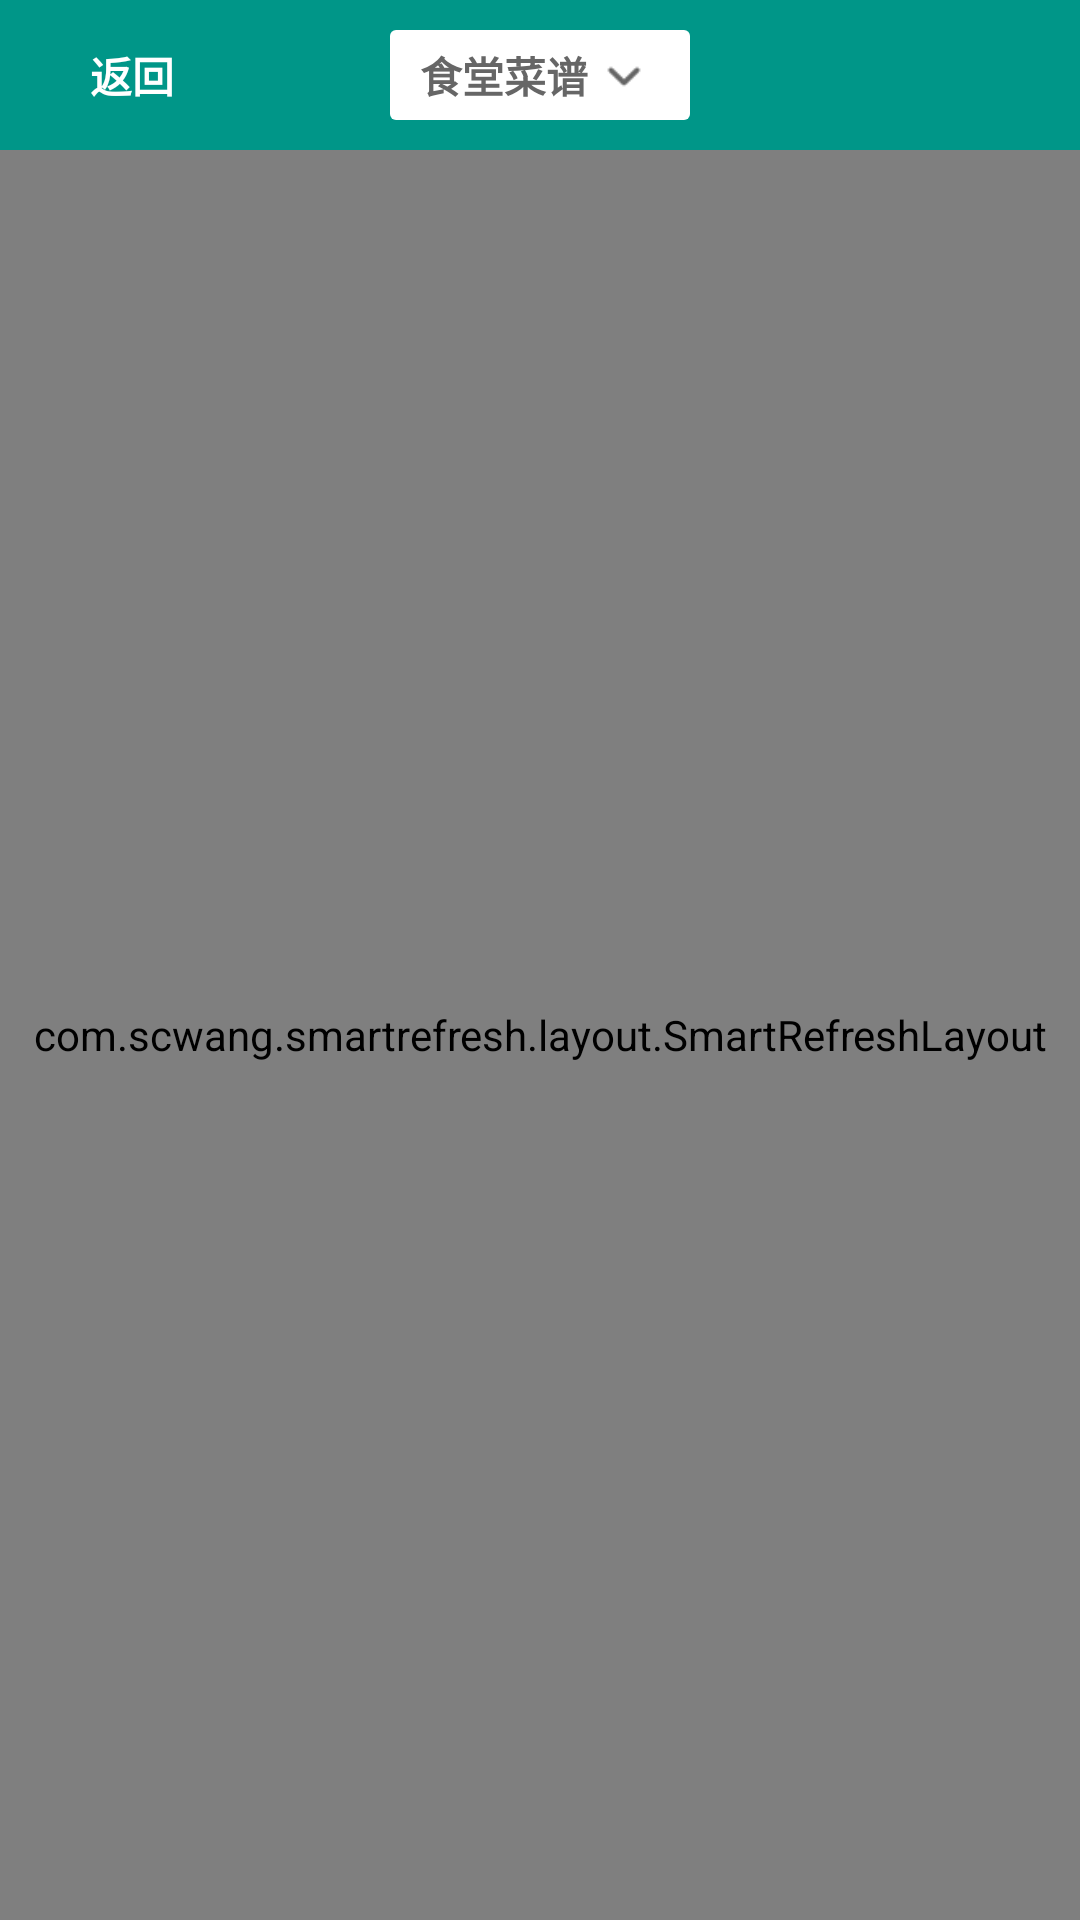

Icons on this 1080*1920 Android screen, each with the point to tap as (x,y):
down: (624,76)
